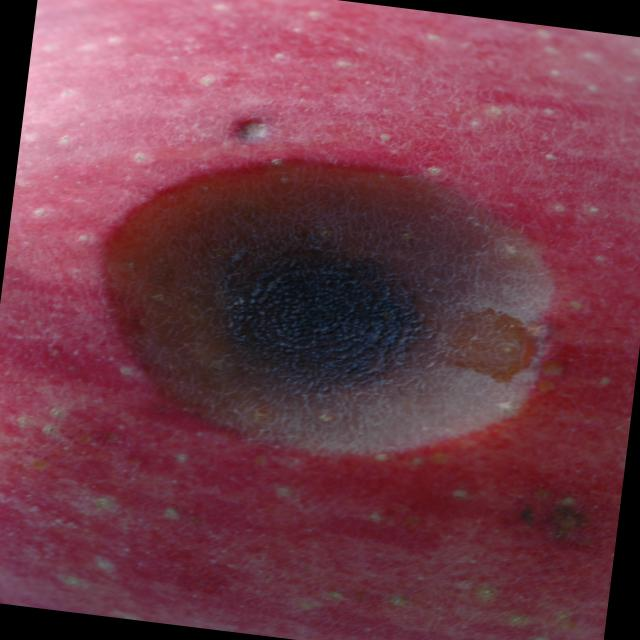rotten: (1, 1, 640, 640)
